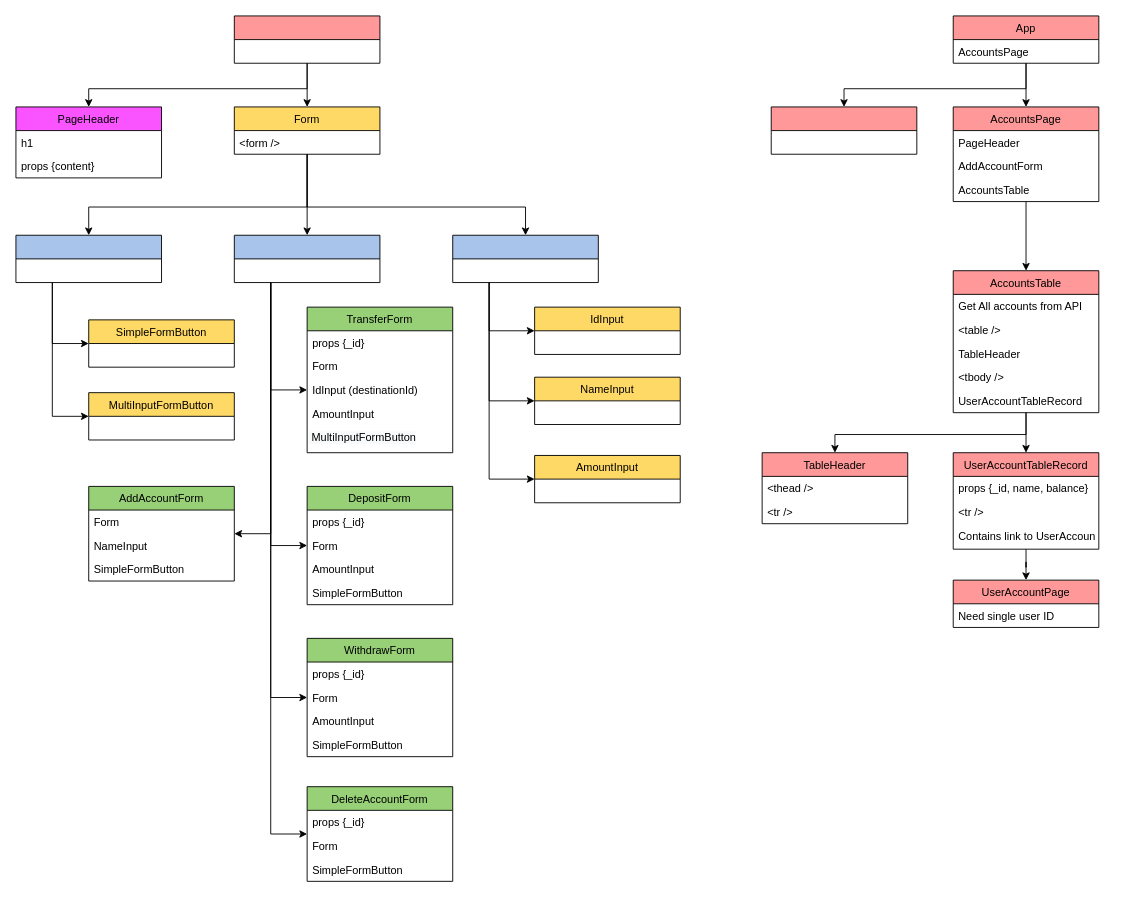
Some shapes in this 1139 by 900 pixel diagram are drawn without their labels. Here are the shapes that lost their labels. From the top down, the centre of each, then its label:
(306,39): Utilities
(843,130): Nav
(88,258): Buttons
(306,258): ApiForms
(525,258): Inputs
